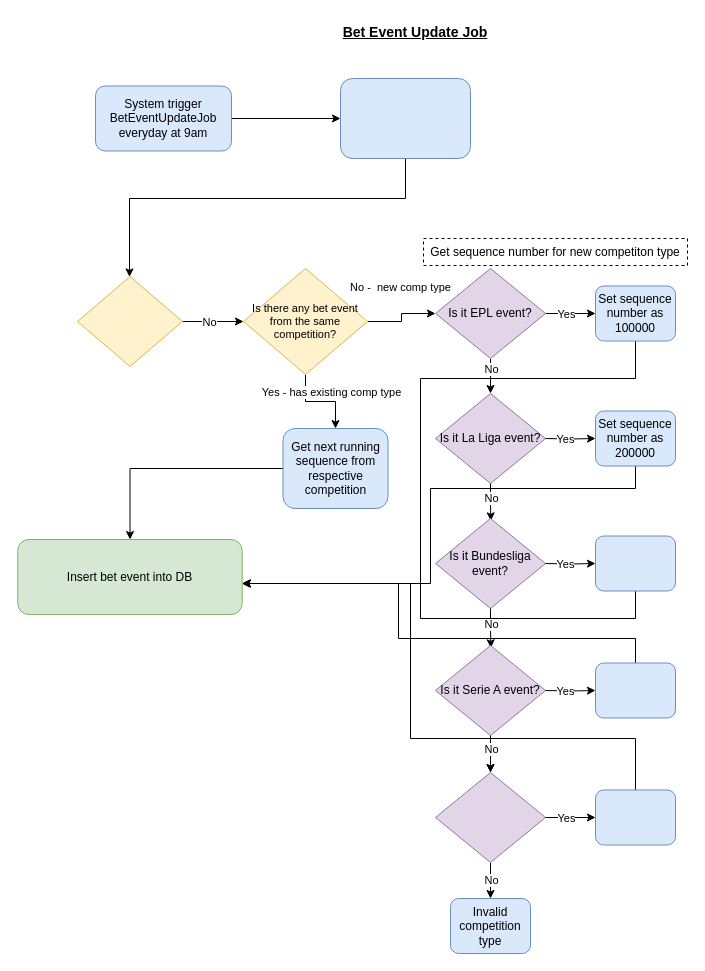
This 705x971 diagram has some shape labels left out. Here are the shapes that lost their labels. From the top down, the box of each, then its label:
(340, 78, 470, 158): Retrieve bet events from odds-api.com
(76, 276, 182, 366): Does bet event exist in DB?
(594, 535, 676, 591): Set sequence number as 300000
(594, 662, 676, 718): Set sequence number as 400000
(434, 772, 546, 862): Is it Ligue One event?
(594, 789, 676, 845): Set sequence number as 500000
